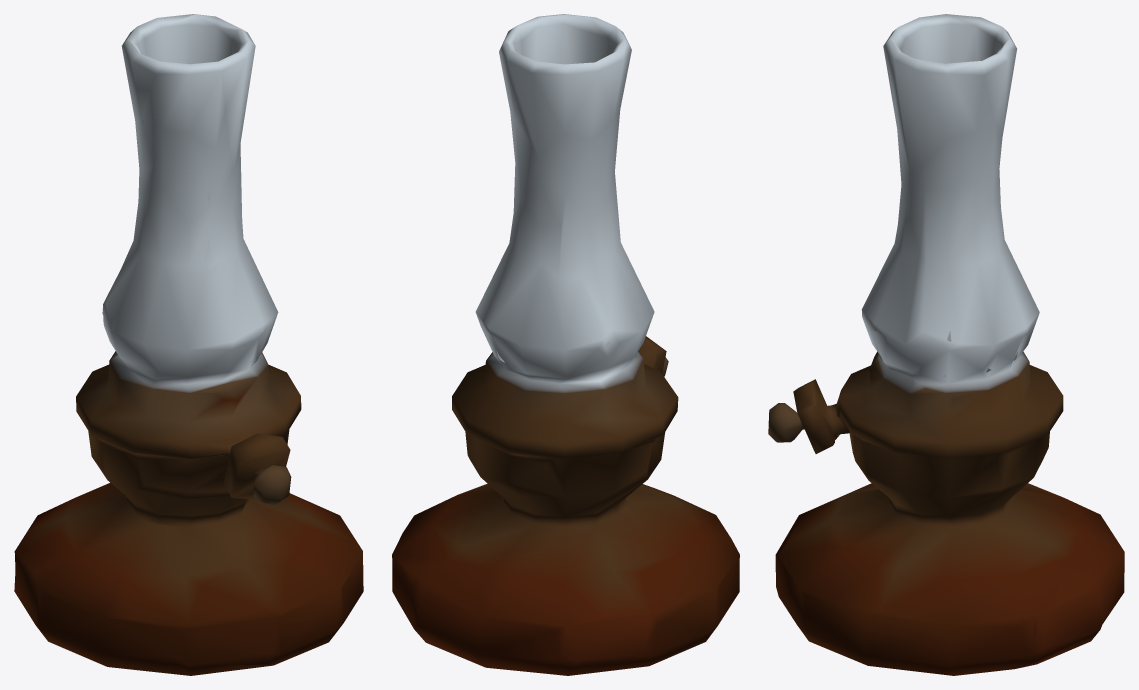
The model's file is gen3d-oil-lamp-lod1.glb.
The picture shows the model from 3 angles, left to right: view 1: azimuth 30°, elevation 25°; view 2: azimuth 150°, elevation 25°; view 3: azimuth 270°, elevation 25°; orthographic projection.
Visible parts, largest first — view 1: part_0; view 2: part_0; view 3: part_0.
Part boxes in pixels (left/top/right/bottom): part_0: left=14, top=14, right=363, bottom=675; part_0: left=392, top=14, right=739, bottom=675; part_0: left=768, top=14, right=1124, bottom=675.
Bounding box in the file's own units: 0.5548 × 1 × 0.5675.
